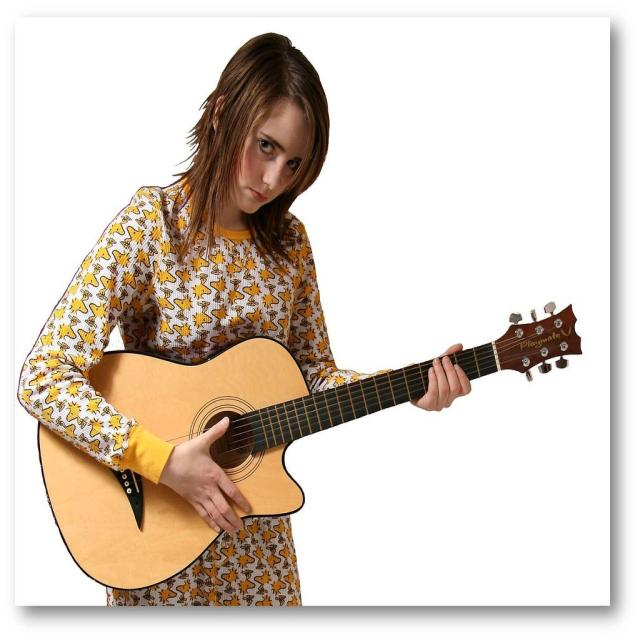guitar: (34, 301, 586, 594)
